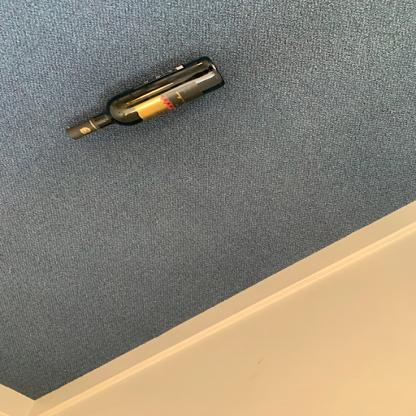trash: (63, 53, 229, 146)
